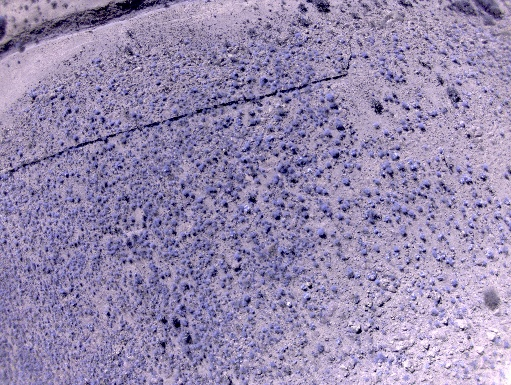agave: (315, 184, 332, 198), (245, 115, 263, 128), (332, 116, 346, 131), (336, 199, 351, 213), (239, 294, 253, 308), (231, 252, 245, 264), (239, 139, 251, 153), (270, 172, 282, 186), (377, 160, 392, 171), (203, 185, 218, 196), (393, 161, 406, 173), (323, 91, 336, 103), (257, 73, 269, 86), (278, 161, 290, 174), (270, 210, 284, 221), (327, 149, 342, 159), (328, 101, 343, 111), (295, 127, 307, 139), (151, 217, 163, 229), (313, 168, 326, 179), (104, 143, 117, 154), (370, 244, 383, 255), (471, 199, 485, 209), (169, 216, 180, 228), (399, 119, 409, 132), (353, 162, 366, 172), (383, 167, 396, 177), (180, 189, 193, 199), (416, 232, 429, 242), (400, 101, 411, 112), (360, 50, 371, 61), (237, 63, 248, 74), (336, 131, 348, 141), (218, 199, 230, 209), (187, 191, 199, 201), (233, 150, 245, 160), (229, 70, 241, 80), (394, 264, 407, 273), (380, 216, 394, 224), (316, 227, 326, 238), (319, 202, 329, 213), (432, 170, 443, 180), (195, 195, 206, 205), (92, 108, 103, 118), (334, 212, 344, 223), (361, 186, 372, 196), (423, 177, 432, 189), (301, 293, 313, 302), (299, 211, 311, 220), (399, 226, 408, 238), (381, 73, 393, 82), (265, 134, 277, 143), (380, 129, 393, 137), (407, 210, 417, 220), (385, 68, 396, 77), (347, 266, 354, 280), (250, 65, 262, 73), (388, 155, 401, 162), (341, 177, 351, 186), (332, 138, 342, 147), (324, 128, 333, 138), (416, 182, 426, 191), (417, 121, 426, 131), (278, 141, 288, 150), (286, 202, 296, 211), (240, 156, 250, 165), (450, 279, 459, 289), (93, 84, 103, 93), (244, 76, 255, 84), (415, 205, 424, 214), (72, 134, 81, 143), (480, 162, 489, 171), (372, 121, 381, 130), (329, 286, 339, 294), (401, 205, 409, 215), (392, 75, 402, 83), (401, 256, 411, 264), (299, 284, 309, 292), (372, 178, 383, 185), (392, 245, 401, 253), (325, 161, 334, 169), (279, 248, 287, 257), (114, 117, 123, 125), (149, 242, 158, 250), (207, 249, 216, 257), (360, 248, 368, 256), (395, 127, 403, 135), (188, 157, 196, 165), (107, 119, 115, 127), (95, 195, 103, 203), (374, 278, 381, 287), (57, 140, 66, 147), (193, 160, 201, 167), (171, 107, 178, 115), (271, 304, 276, 312)
